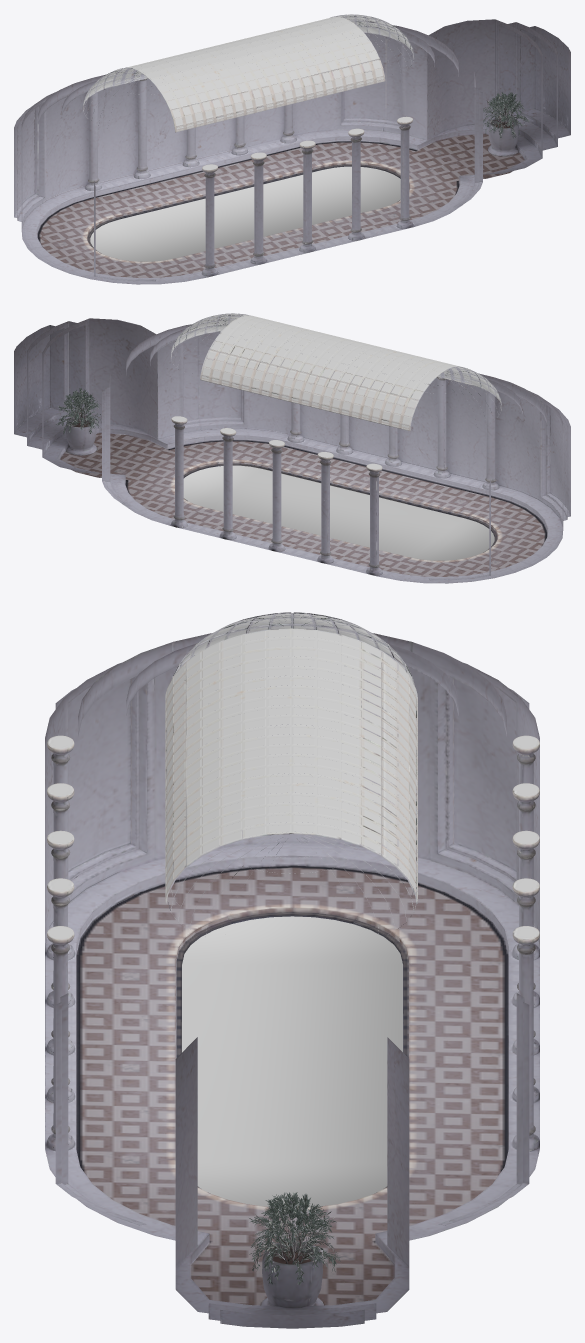
The model's file is pool.glb.
3 renders of one model, top to bottom at view 1: azimuth 30°, elevation 25°; view 2: azimuth 150°, elevation 25°; view 3: azimuth 270°, elevation 25°, orthographic. The views are drawn at different scales.
Visible parts, largest first — view 1: Bathhouse; view 2: Bathhouse; view 3: Bathhouse.
Boxes of the visible parts, x1,y1,x2,y2 form: Bathhouse: [14, 14, 570, 284]; Bathhouse: [14, 313, 570, 583]; Bathhouse: [45, 612, 539, 1328].
Bounding box in the file's own units: 21.7 × 6.69 × 8.94.
2 materials, 1 textured.
